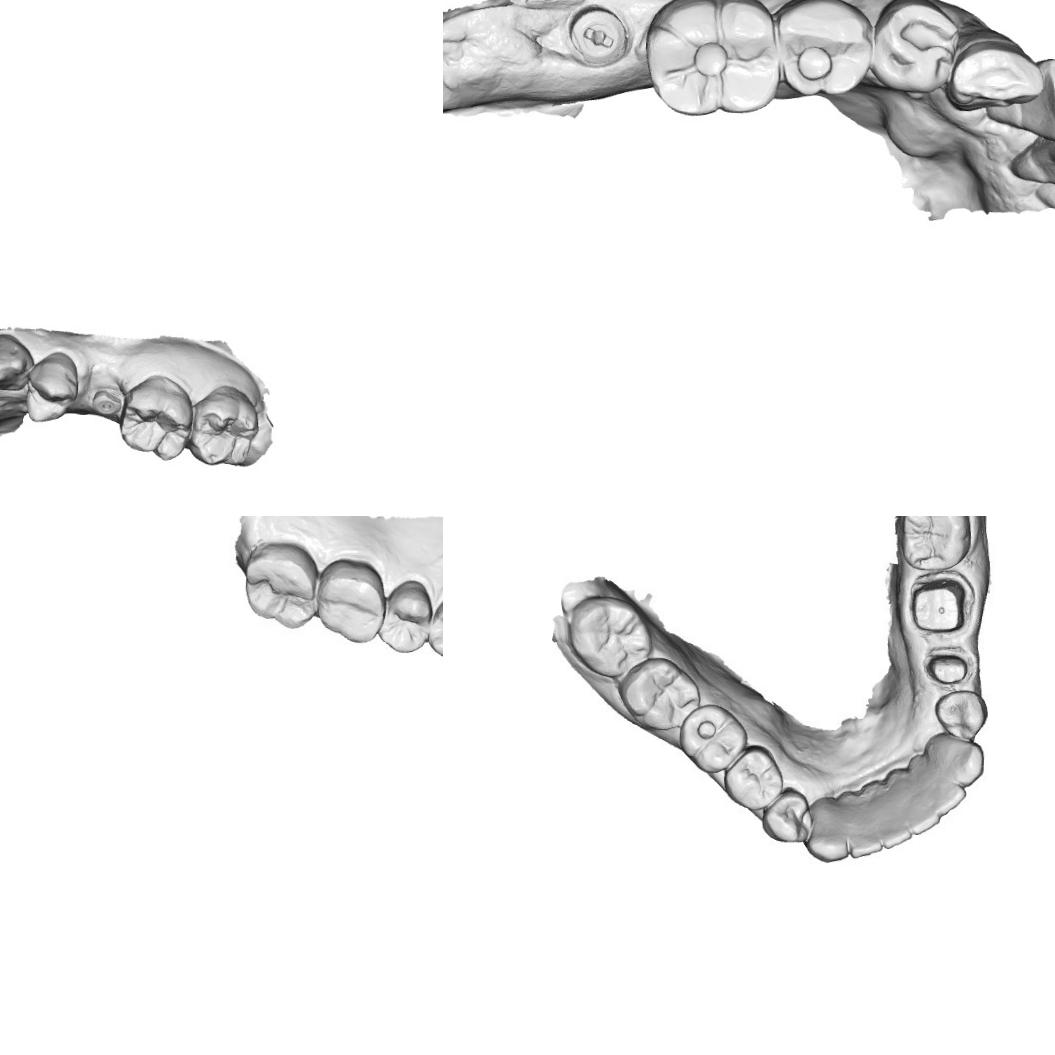canine: (946, 21, 1048, 116), (801, 802, 856, 866), (932, 735, 987, 789), (0, 330, 35, 392)
crown: (909, 569, 972, 640), (921, 648, 976, 688)
implant: (87, 386, 124, 418)
implant_minus: (564, 2, 630, 70)
incisor: (981, 54, 1055, 144), (1007, 130, 1055, 201), (846, 805, 884, 861), (872, 805, 912, 851), (907, 785, 941, 837), (927, 776, 967, 817)
molar: (642, 0, 784, 120), (564, 596, 656, 680), (115, 371, 196, 464), (240, 540, 322, 631), (614, 655, 702, 734), (314, 558, 386, 645), (187, 386, 260, 469), (676, 702, 750, 776), (898, 516, 972, 575)
premolar: (774, 0, 878, 100), (870, 0, 962, 96), (722, 742, 786, 814), (24, 348, 82, 424), (379, 572, 430, 658), (760, 785, 816, 846), (932, 686, 990, 743), (426, 591, 443, 663)
